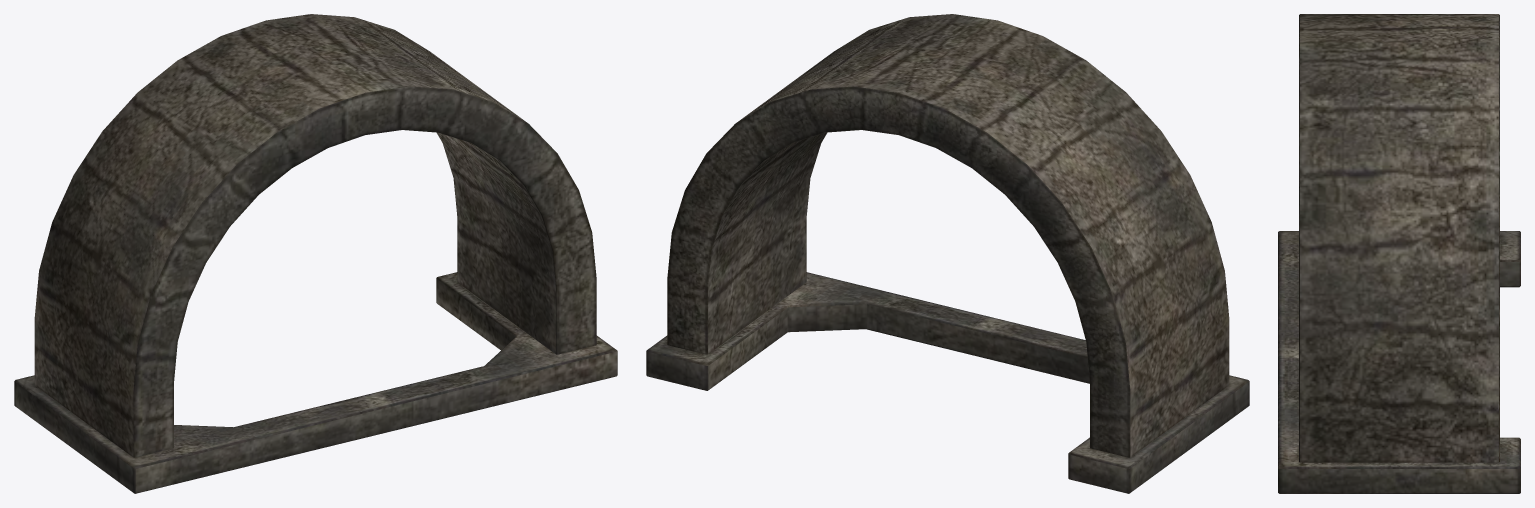
File: o_mdl_env_propAltarBlueChamberHouseAddon-transformed.glb
3 renders of one model, left to right at view 1: azimuth 30°, elevation 25°; view 2: azimuth 150°, elevation 25°; view 3: azimuth 270°, elevation 25°, orthographic.
Visible parts, largest first — view 1: default; view 2: default; view 3: default.
Part boxes in pixels (<box>): default: <box>14,14,617,493</box>; default: <box>646,14,1249,493</box>; default: <box>1278,14,1520,493</box>.
Bounding box in the file's own units: 2.22 × 1.47 × 0.9597.
Materials: 1 (1 with a texture image).
